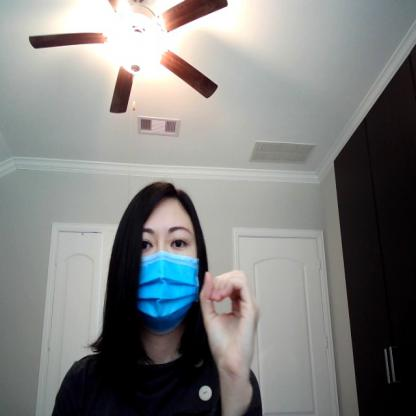zero: (200, 267, 258, 377)
